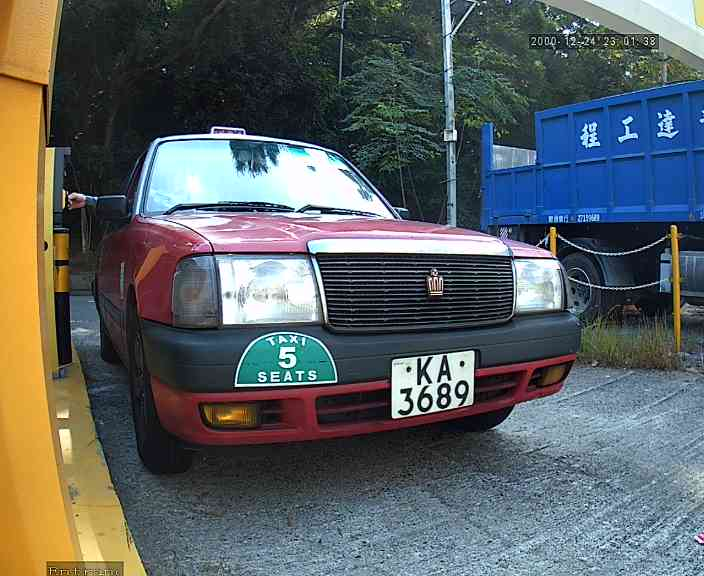taxi: (76, 106, 588, 515)
taxi_mark: (218, 317, 352, 403)
